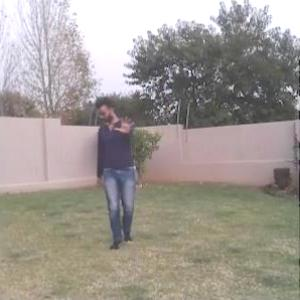follow_hand: (113, 111, 138, 134)
